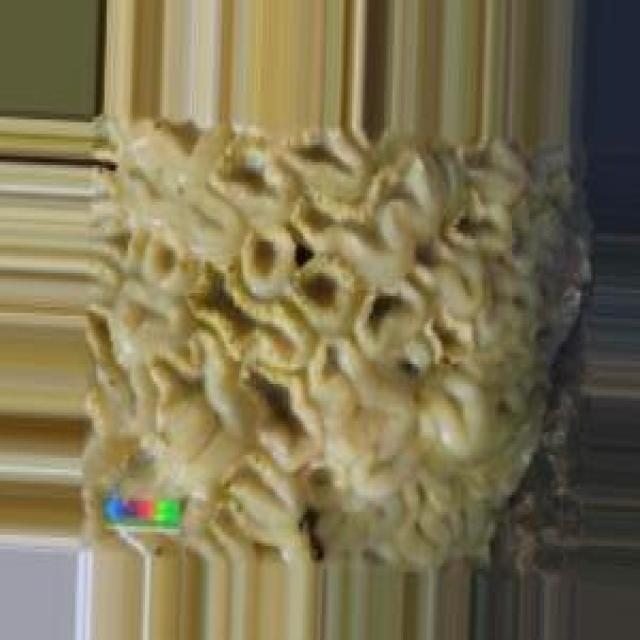Healthy: (86, 123, 579, 567)
